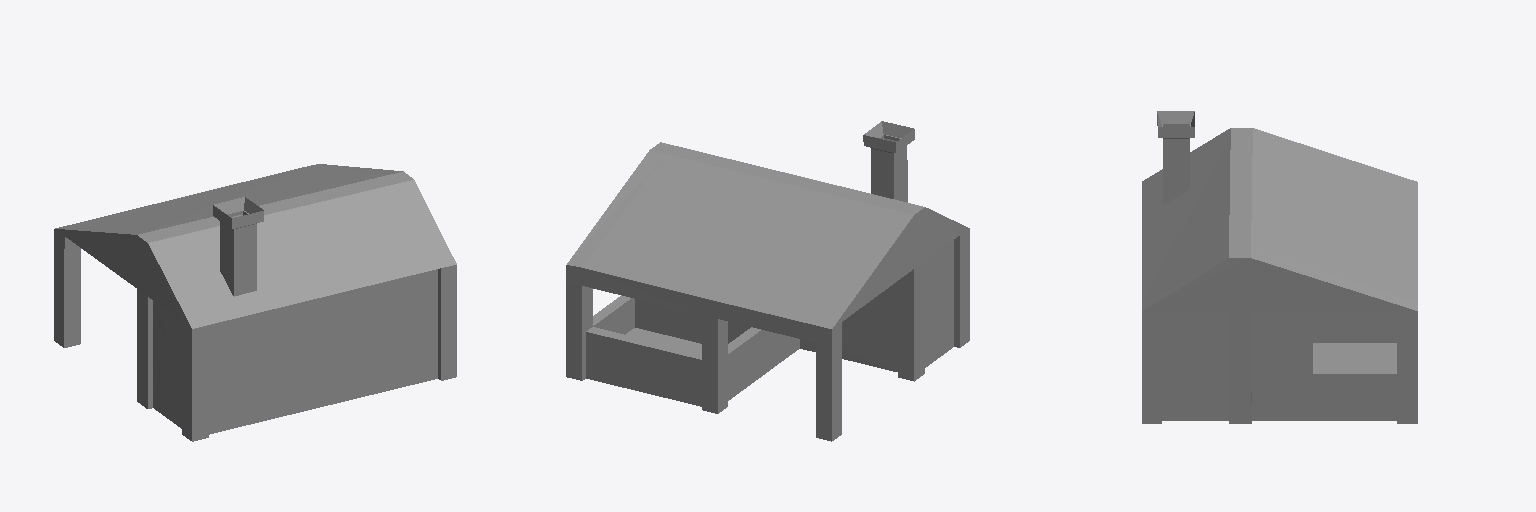
File: house4.obj
The picture shows the model from 3 angles: view 1: azimuth 30°, elevation 25°; view 2: azimuth 150°, elevation 25°; view 3: azimuth 270°, elevation 25°; orthographic projection.
Parts seen in each view (by area): view 1: Cube_Cube; view 2: Cube_Cube; view 3: Cube_Cube.
Boxes of the visible parts, box(x1,y1,x2,y2) form: Cube_Cube: box(54, 164, 456, 441); Cube_Cube: box(566, 121, 969, 441); Cube_Cube: box(1142, 111, 1417, 423).
Bounding box in the file's own units: 179 × 133 × 161.